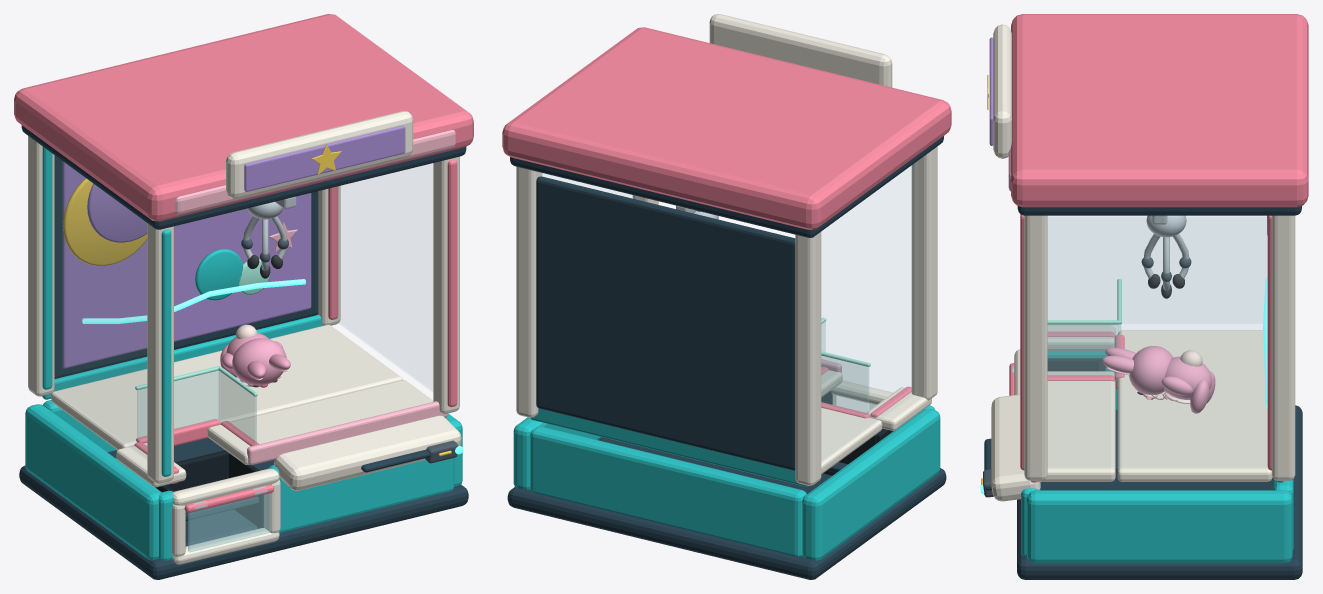
The model's file is moon-rabbit.glb.
3 renders of one model, left to right at view 1: azimuth 30°, elevation 25°; view 2: azimuth 150°, elevation 25°; view 3: azimuth 270°, elevation 25°, orthographic. The views are drawn at different scales.
Parts seen in each view (by area): view 1: TopCanopy, GlassLeft, BackboardInset, GlassRight, DeckRear, BaseSideL, BasePlinth, BaseFrontRight, ControlConsole, DeckFrontRight, BackboardPanel, Post_L_F_Core (+34 smaller); view 2: BackboardPanel, TopCanopy, GlassLeft, BaseBack, BaseSideL, BasePlinth, Post_L_B_Core, Post_L_F_Core, MarqueeShell, Post_R_B_Core, DeckTrimBack, TopLowerTrim (+6 smaller); view 3: TopCanopy, GlassRight, BaseSideR, DeckRear, DeckFrontRight, BasePlinth, Post_R_F_Core, Post_R_B_Core, PrizeChuteGuardRight, ControlConsole, TopLowerTrim, MarqueeShell (+15 smaller).
Part boxes in pixels (box(x1,y1,x2,y2)): TopCanopy: box(14, 14, 473, 221); GlassLeft: box(51, 153, 146, 459); BackboardInset: box(62, 161, 311, 368); GlassRight: box(334, 164, 432, 391); DeckRear: box(51, 324, 402, 449); BaseSideL: box(25, 404, 161, 560); BasePlinth: box(19, 465, 468, 579); BaseFrontRight: box(268, 458, 454, 532); ControlConsole: box(274, 415, 461, 490); DeckFrontRight: box(207, 380, 433, 464); BackboardPanel: box(54, 155, 318, 378); Post_L_F_Core: box(147, 223, 173, 483); BackboardPanel: box(536, 176, 795, 470); TopCanopy: box(502, 27, 951, 229); GlassLeft: box(822, 162, 917, 461); BaseBack: box(530, 426, 806, 556); BaseSideL: box(802, 408, 940, 560); BasePlinth: box(507, 468, 946, 579); Post_L_B_Core: box(795, 232, 821, 485); Post_L_F_Core: box(911, 146, 937, 400); MarqueeShell: box(709, 14, 892, 87); Post_R_B_Core: box(516, 166, 542, 417); DeckTrimBack: box(530, 408, 808, 486); TopLowerTrim: box(510, 136, 943, 237); TopCanopy: box(1011, 14, 1308, 207); GlassRight: box(1048, 217, 1266, 467); BaseSideR: box(1027, 490, 1292, 563); DeckRear: box(1117, 330, 1272, 481); DeckFrontRight: box(1037, 371, 1115, 481); BasePlinth: box(1017, 405, 1302, 579); Post_R_F_Core: box(1024, 215, 1047, 480); Post_R_B_Core: box(1272, 215, 1295, 480); PrizeChuteGuardRight: box(1048, 325, 1118, 380); ControlConsole: box(991, 394, 1040, 501); TopLowerTrim: box(1017, 206, 1301, 215); MarqueeShell: box(993, 24, 1011, 158).
Size of the model in its own units: 4.66 by 5.73 by 3.93.
